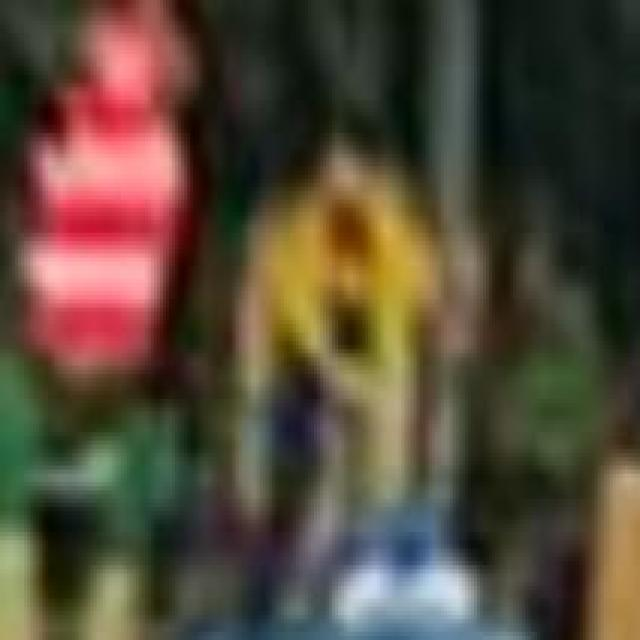traffic sign: (266, 154, 447, 395)
